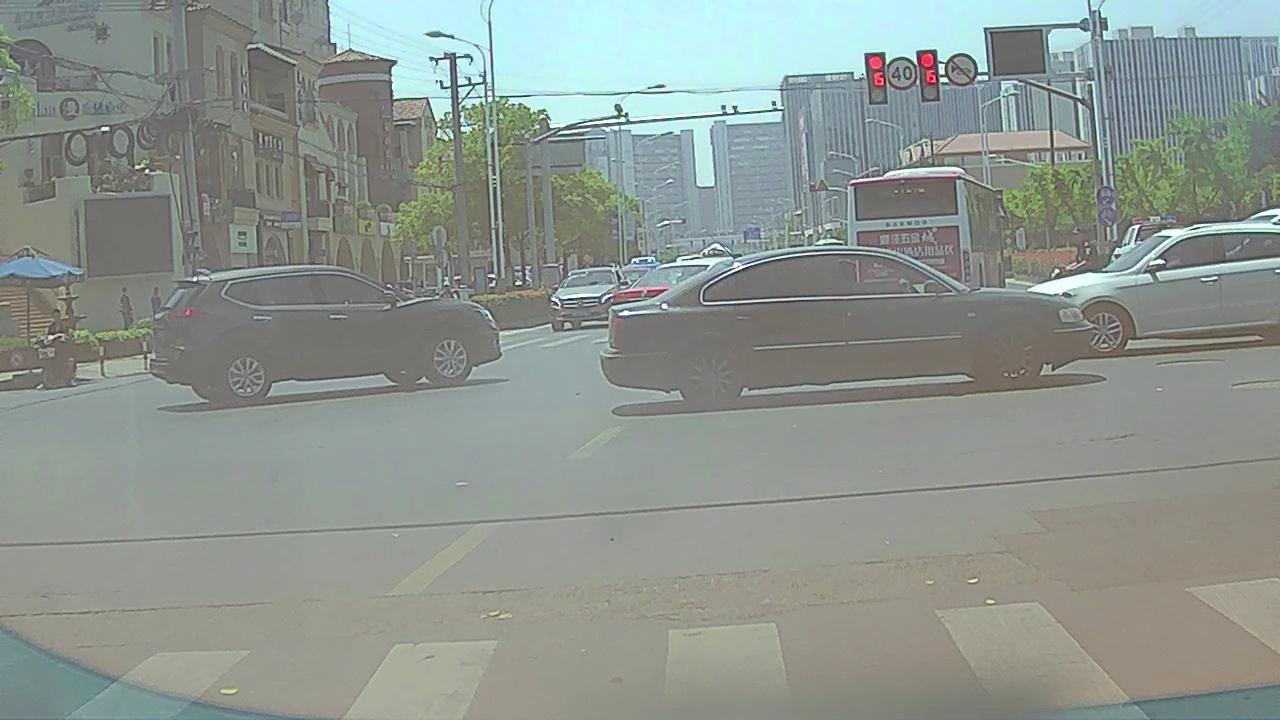traffic_light: (870, 52, 888, 103), (920, 52, 937, 100)
